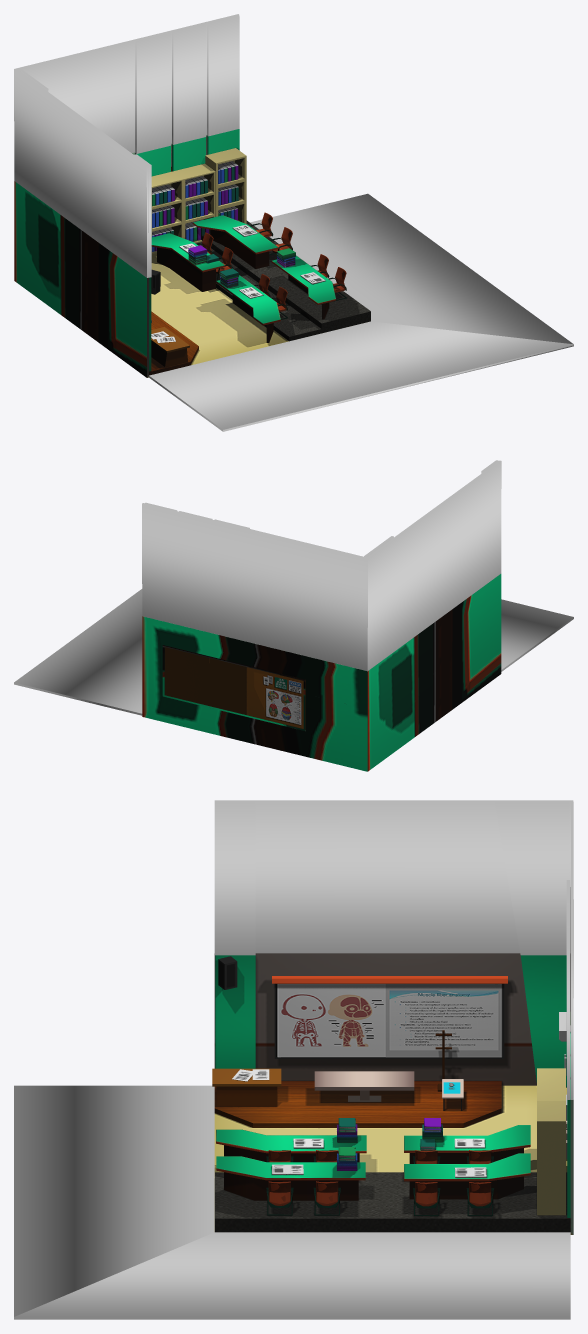
File: Tx_Interior_Education_Medical_20170727.fbx
3 views of the same model, one above another, from view 1: azimuth 30°, elevation 25°; view 2: azimuth 150°, elevation 25°; view 3: azimuth 270°, elevation 25° (orthographic). The views are drawn at different scales.
Visible parts, largest first — view 1: Tx_Interior_Education_Computing_20170703:polySurface799, Tx_Interior_Education_Computing_20170703:layer1_bake, Tx_Interior_Education_Computing_20170703:layer2_bake; view 2: Tx_Interior_Education_Computing_20170703:polySurface799, Tx_Interior_Education_Computing_20170703:layer1_bake; view 3: Tx_Interior_Education_Computing_20170703:polySurface799, Tx_Interior_Education_Computing_20170703:layer1_bake, Tx_Interior_Education_Computing_20170703:layer2_bake.
Part boxes in pixels (x1=…): Tx_Interior_Education_Computing_20170703:polySurface799: x1=14, y1=14, x2=573, y2=431; Tx_Interior_Education_Computing_20170703:layer1_bake: x1=14, y1=129, x2=370, y2=377; Tx_Interior_Education_Computing_20170703:layer2_bake: x1=151, y1=161, x2=346, y2=342; Tx_Interior_Education_Computing_20170703:polySurface799: x1=14, y1=460, x2=573, y2=715; Tx_Interior_Education_Computing_20170703:layer1_bake: x1=142, y1=574, x2=501, y2=771; Tx_Interior_Education_Computing_20170703:polySurface799: x1=14, y1=800, x2=573, y2=1319; Tx_Interior_Education_Computing_20170703:layer1_bake: x1=212, y1=953, x2=573, y2=1234; Tx_Interior_Education_Computing_20170703:layer2_bake: x1=232, y1=1069, x2=494, y2=1216.
Bounding box in the file's own units: 82.41 × 47.3 × 83.76.
